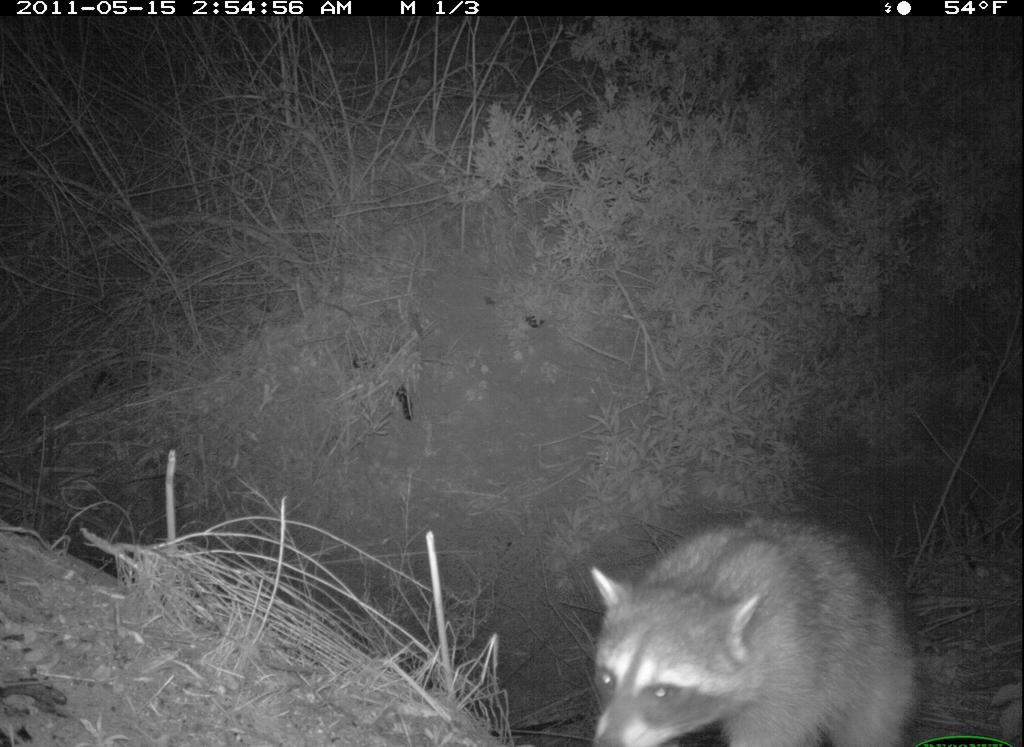raccoon: (545, 484, 927, 747)
